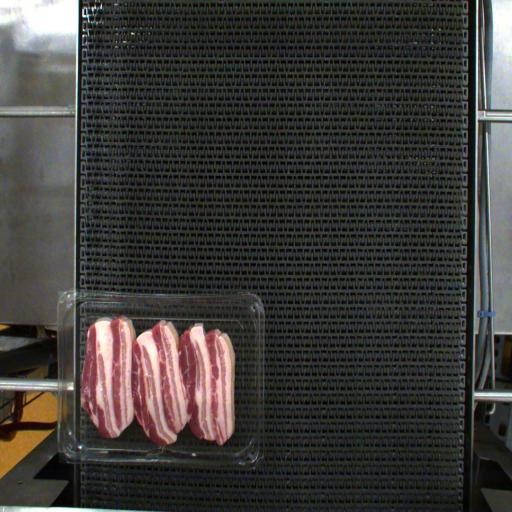wrinkle: (129, 370, 161, 382)
